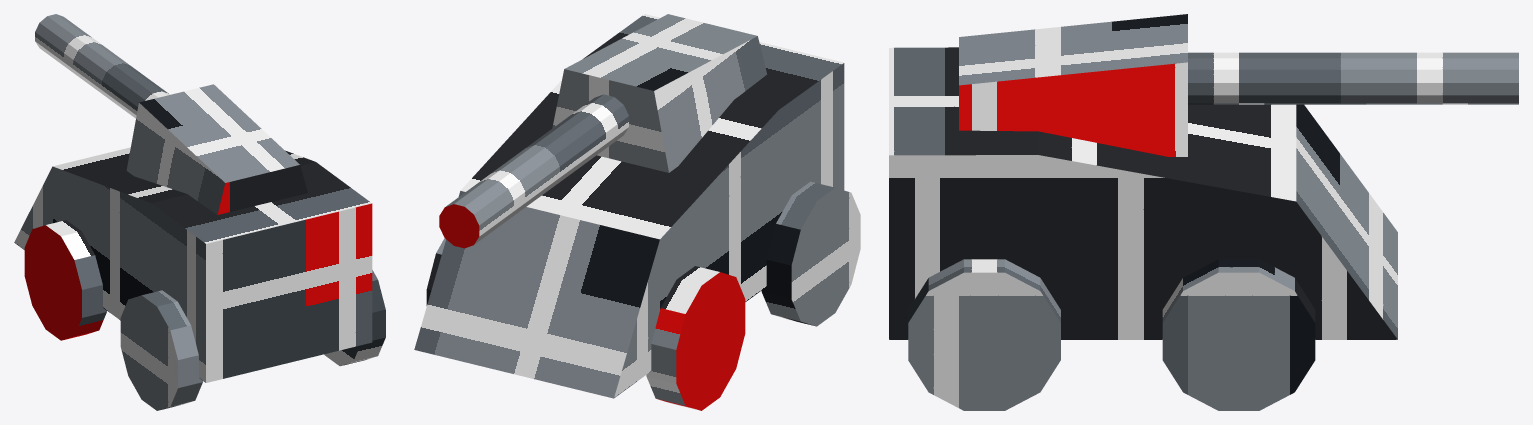
File: scout.obj
3 views of the same model, side by side, from view 1: azimuth 30°, elevation 25°; view 2: azimuth 150°, elevation 25°; view 3: azimuth 270°, elevation 25° (orthographic). The views are drawn at different scales.
Parts seen in each view (by area): view 1: mesh, cylinder; view 2: mesh, cylinder; view 3: mesh, cylinder.
Part boxes in pixels (box(x1,y1,x2,y2)): mesh: box(14, 84, 372, 382); cylinder: box(24, 14, 385, 410); mesh: box(414, 14, 844, 398); cylinder: box(426, 94, 860, 410); mesh: box(889, 14, 1397, 339); cylinder: box(908, 52, 1518, 410).
Size of the model in its own units: 0.7812 by 0.8281 by 1.55.
1 material, 1 textured.
